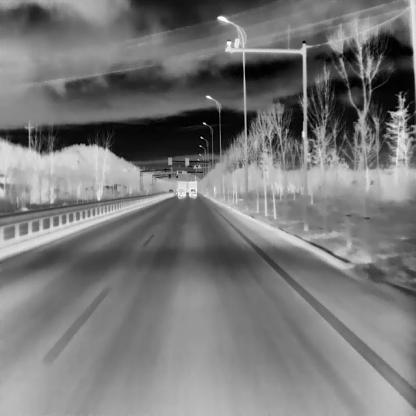car: (189, 180, 197, 195), (178, 181, 186, 195), (177, 189, 185, 197), (189, 189, 196, 197)
